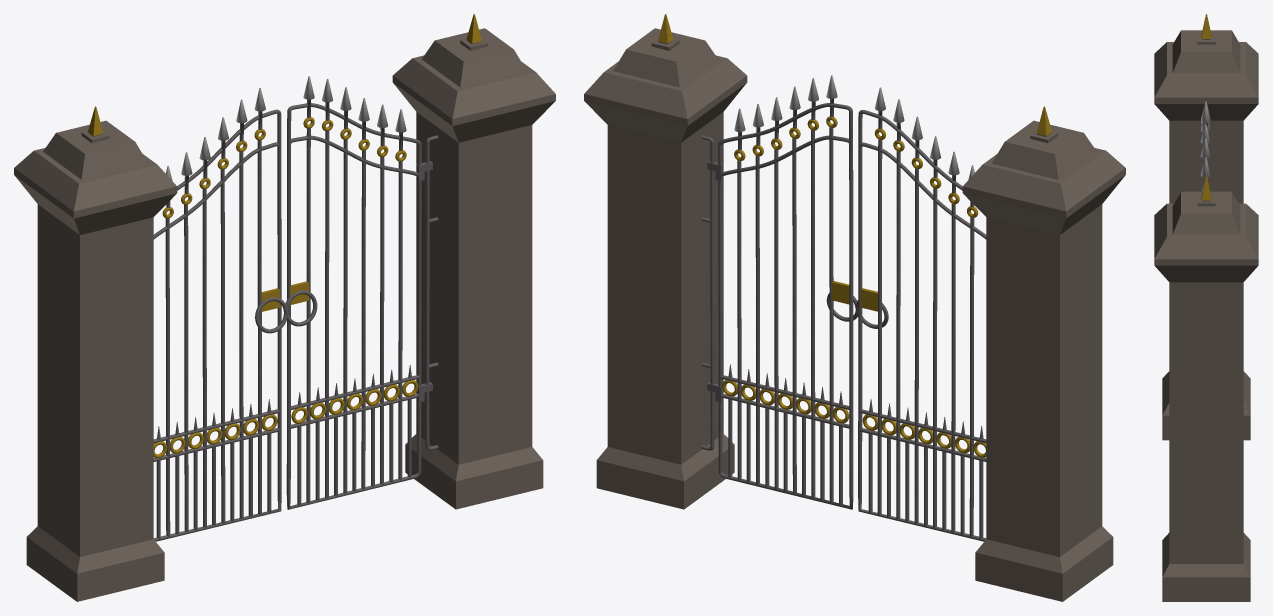
The model's file is Gate.fbx.
3 renders of one model, left to right at view 1: azimuth 30°, elevation 25°; view 2: azimuth 150°, elevation 25°; view 3: azimuth 270°, elevation 25°, orthographic. The views are drawn at different scales.
Visible parts, largest first — view 1: Pilar.001, Pilar, Door_R, Door_L, Handle; view 2: Pilar.001, Pilar, Door_R, Door_L, Handle; view 3: Pilar, Pilar.001, Door_R, Door_L.
Boxes of the visible parts, x1,y1,x2,y2 form: Pilar.001: (14,106,177,601); Pilar: (392,14,555,509); Door_R: (285,76,421,509); Door_L: (153,88,287,541); Handle: (416,135,438,450); Pilar.001: (962,106,1125,601); Pilar: (584,14,747,509); Door_R: (718,75,857,509); Door_L: (855,87,986,541); Handle: (701,135,723,450); Pilar: (1154,175,1258,601); Pilar.001: (1154,14,1258,440); Door_R: (1200,123,1210,191); Door_L: (1201,101,1210,180).
Size of the model in its own units: 2.77 by 0.5949 by 2.56.
